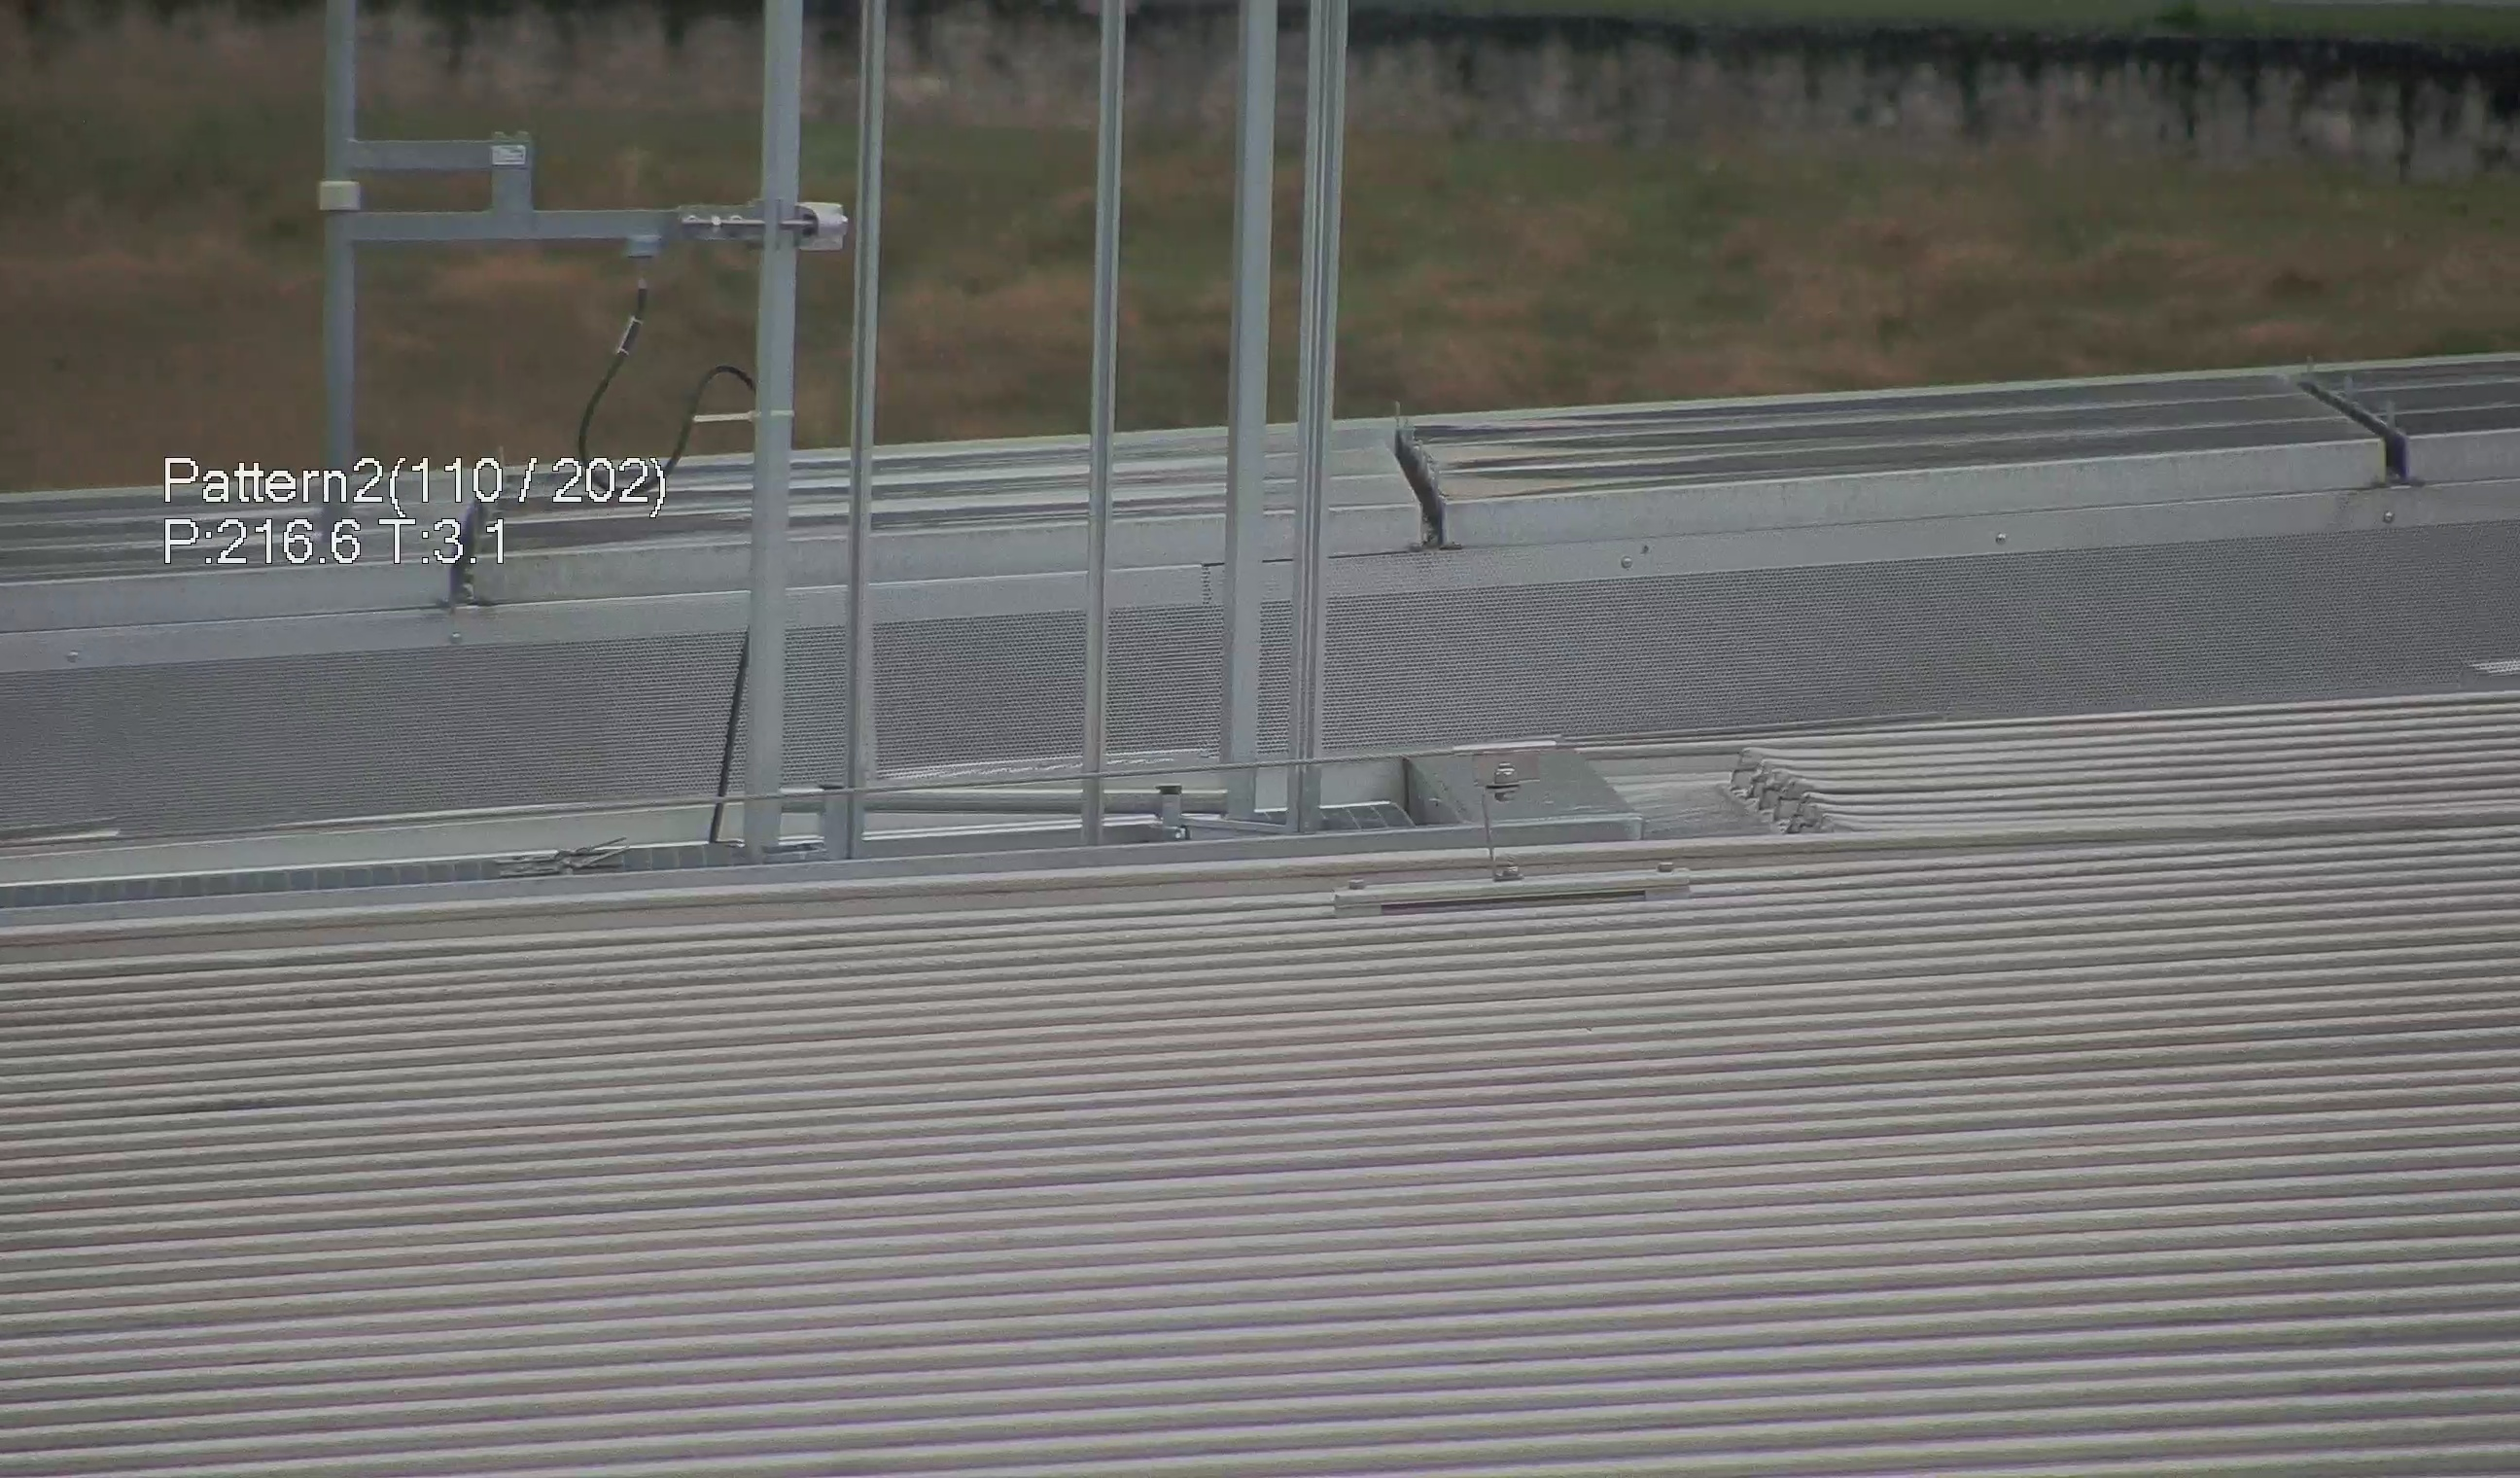Other: (1382, 405, 1465, 558)
